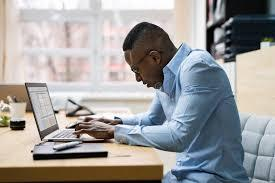Bad Sitting Posture: (46, 4, 267, 175)
